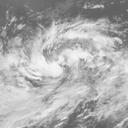cyclone: (25, 22, 114, 81)
